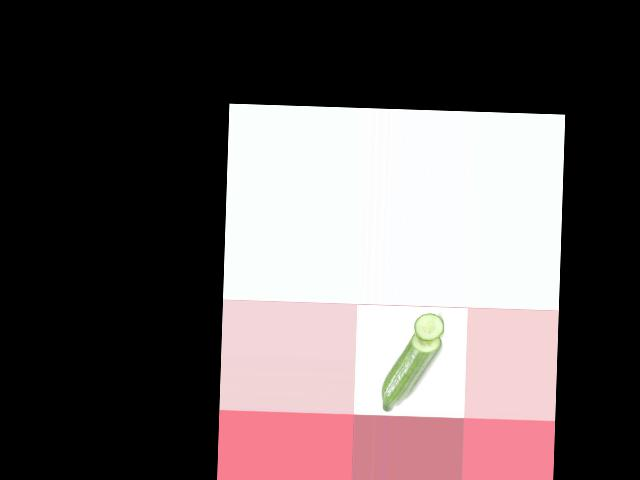cucumber: (381, 330, 441, 413)
